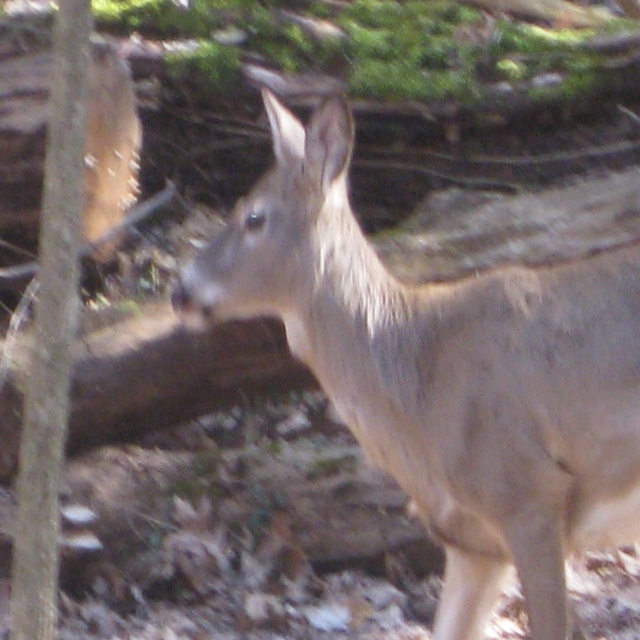Deer: (171, 86, 640, 639)
